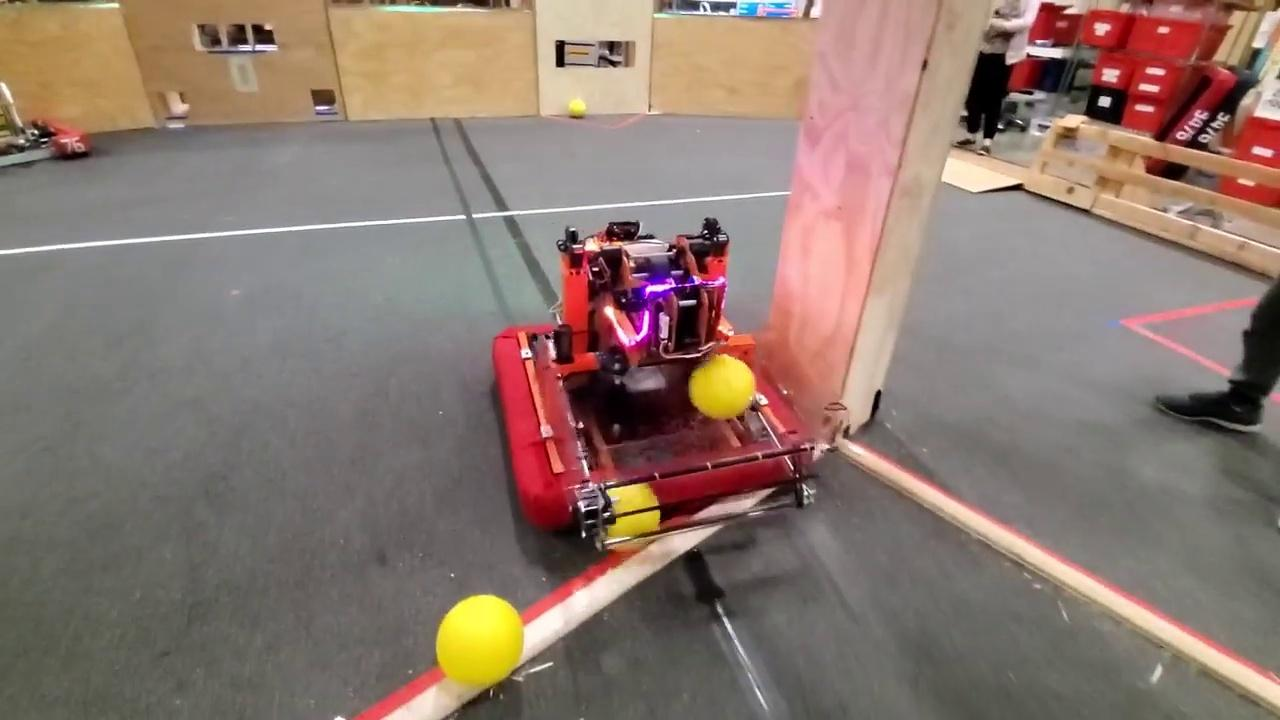robot: (493, 212, 824, 545), (0, 81, 94, 174)
